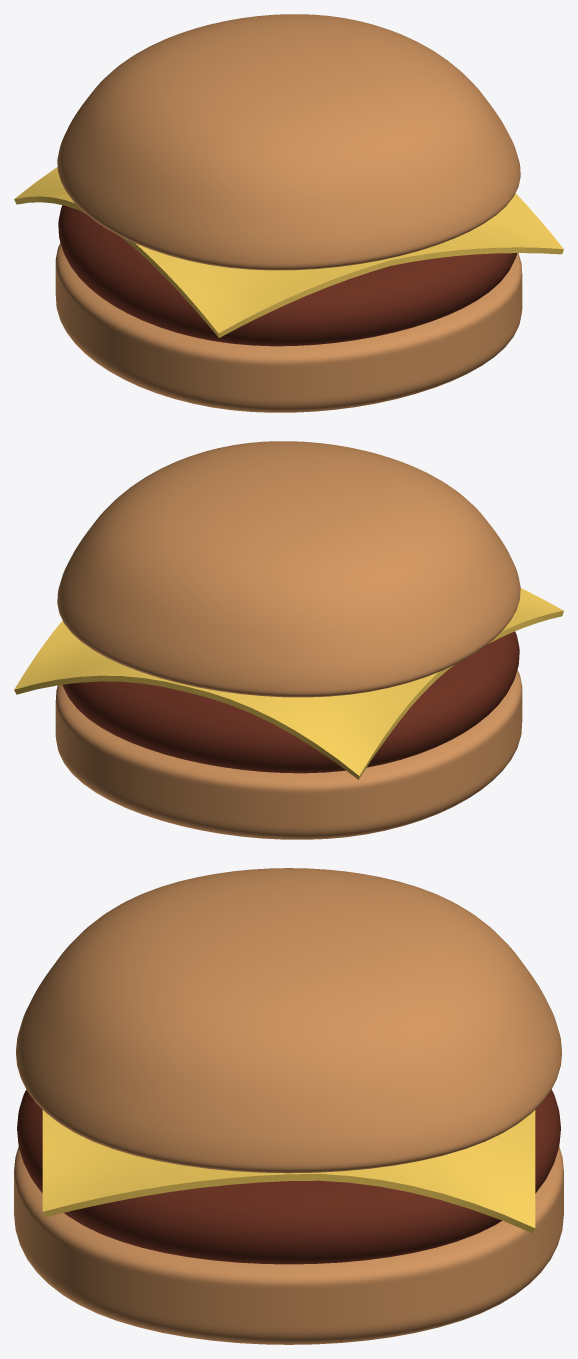
The model's file is Hamburguer.glb.
The picture shows the model from 3 angles, top to bottom: view 1: azimuth 30°, elevation 25°; view 2: azimuth 150°, elevation 25°; view 3: azimuth 270°, elevation 25°; orthographic projection. The views are drawn at different scales.
Visible parts, largest first — view 1: TopBun, BottomBun, Meat, Cheese; view 2: TopBun, BottomBun, Meat, Cheese; view 3: TopBun, BottomBun, Meat, Cheese.
Boxes of the visible parts, <box> form: TopBun: <box>57,14,520,270</box>; BottomBun: <box>55,243,522,412</box>; Meat: <box>58,205,517,346</box>; Cheese: <box>14,167,563,337</box>; TopBun: <box>57,441,520,697</box>; BottomBun: <box>55,670,522,839</box>; Meat: <box>62,631,519,773</box>; Cheese: <box>14,588,563,779</box>; TopBun: <box>16,868,561,1173</box>; BottomBun: <box>14,1146,563,1344</box>; Meat: <box>17,1089,560,1264</box>; Cheese: <box>42,1110,535,1233</box>.
Size of the model in its own units: 5.86 by 3.98 by 5.86.
